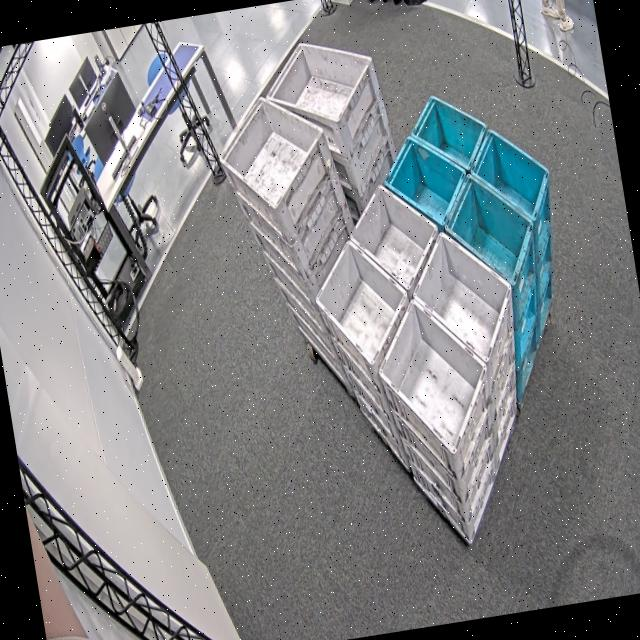Roll3G: (208, 85, 337, 221), (255, 28, 384, 136)
Roll8G: (358, 218, 535, 464), (297, 176, 458, 374)
RollB8: (428, 118, 569, 296), (369, 86, 502, 238)
